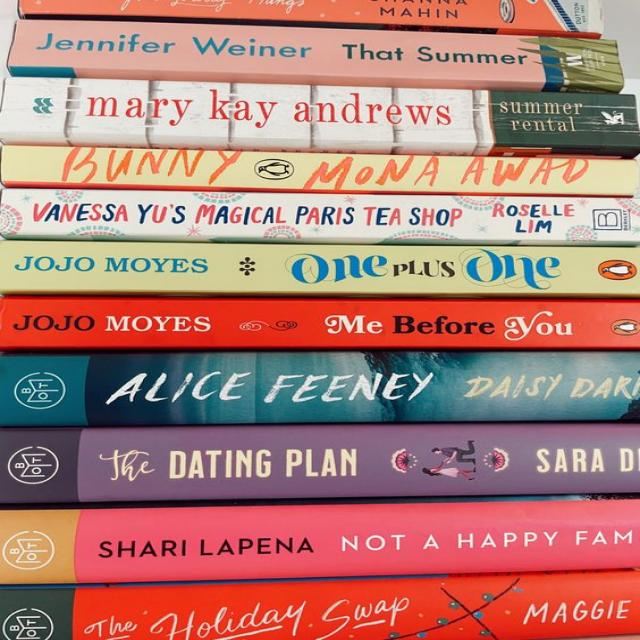book: (0, 73, 639, 157), (0, 499, 639, 583), (0, 425, 639, 501), (0, 351, 639, 425), (7, 19, 623, 93), (3, 571, 639, 639), (0, 239, 639, 297), (0, 295, 639, 350), (0, 190, 639, 244), (0, 145, 635, 197), (18, 0, 603, 38)
